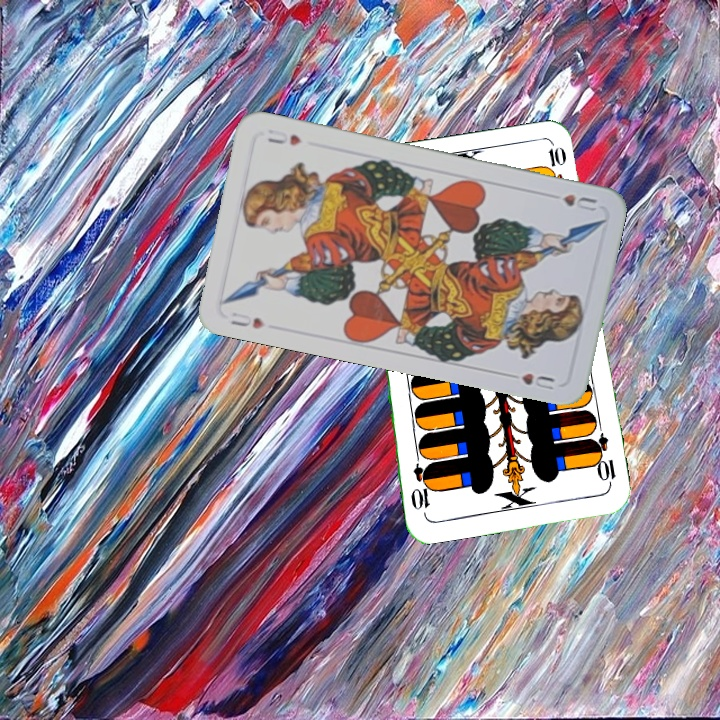E10: (587, 430, 619, 489)
HU: (558, 190, 600, 214), (227, 308, 267, 332)
